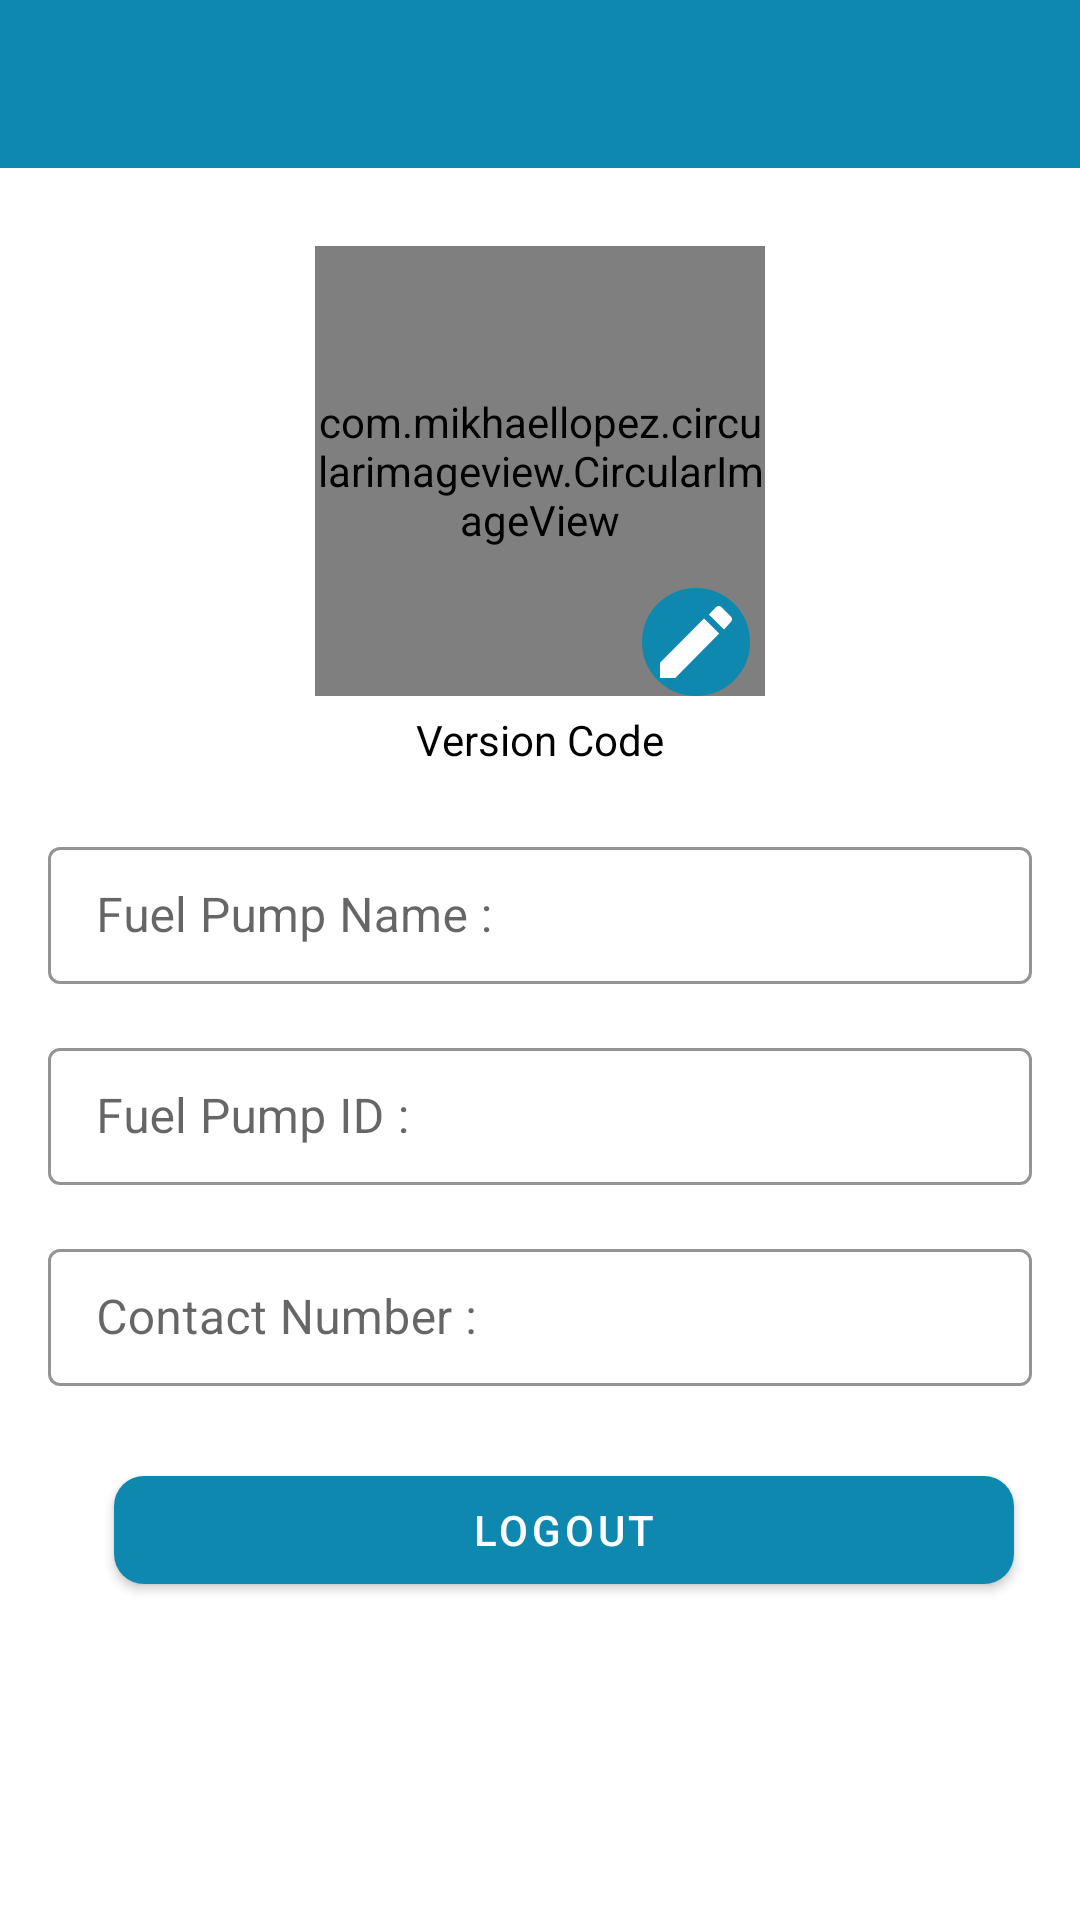

Screen size 1080w x 1920h. Icon name, then its center in pixels as (x,y):
edit profile pic: (696,642)
